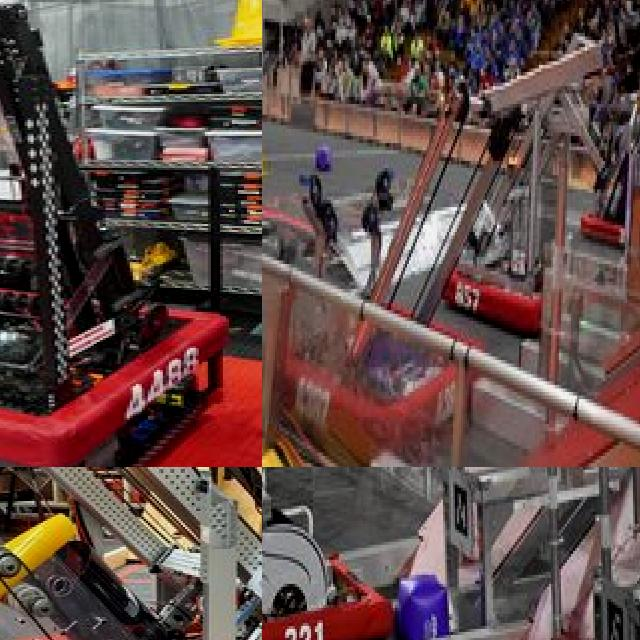FRC-Robots: (264, 0, 640, 467), (0, 5, 222, 467), (435, 50, 640, 322), (0, 467, 262, 640), (262, 467, 509, 640), (571, 60, 640, 250)
